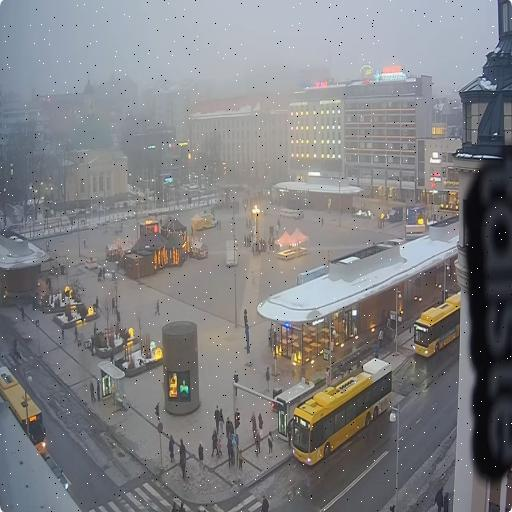Bus: (293, 358, 391, 464), (0, 366, 46, 453), (413, 292, 460, 355)
